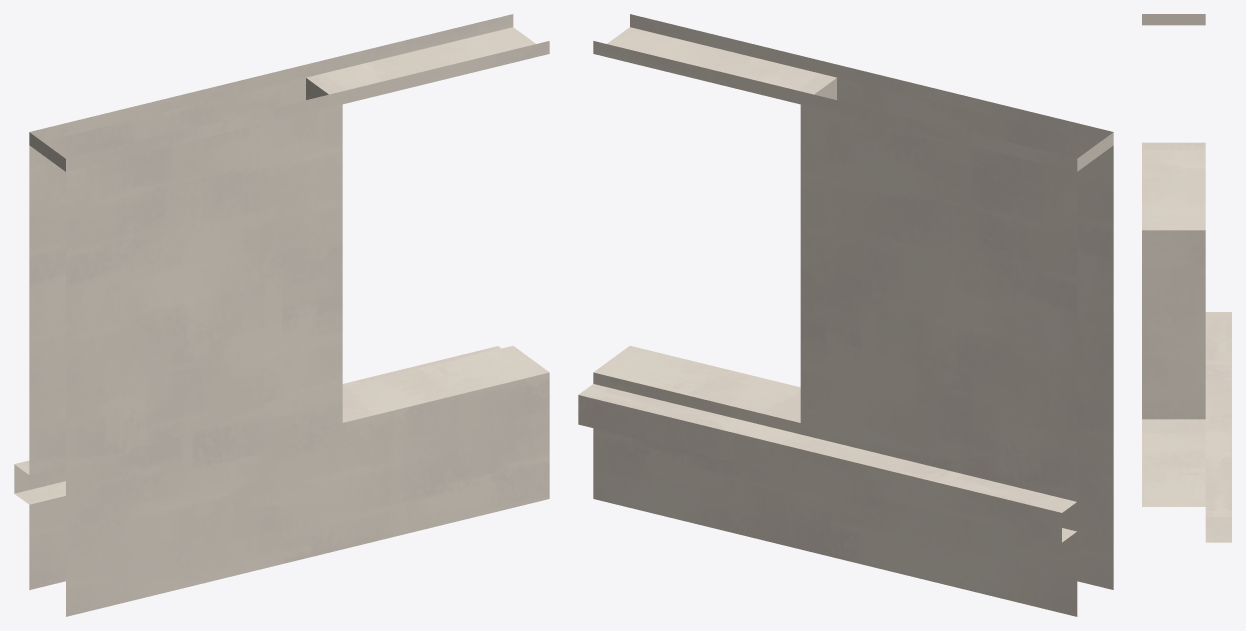
Rendered from classroom outer side wall half window.fbx.
3 views of the same model, side by side, from view 1: azimuth 30°, elevation 25°; view 2: azimuth 150°, elevation 25°; view 3: azimuth 270°, elevation 25° (orthographic). The views are drawn at different scales.
Parts seen in each view (by area): view 1: pCube555; view 2: pCube555; view 3: pCube555.
Boxes of the visible parts, x1,y1,x2,y2 form: pCube555: (14,14,549,616); pCube555: (578,14,1113,616); pCube555: (1142,14,1231,542).
Bounding box in the file's own units: 400 × 362 × 74.06.
